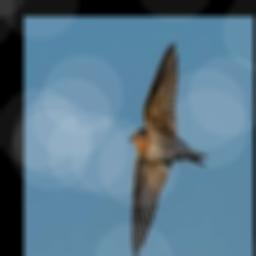Swallow: (127, 40, 207, 256)
